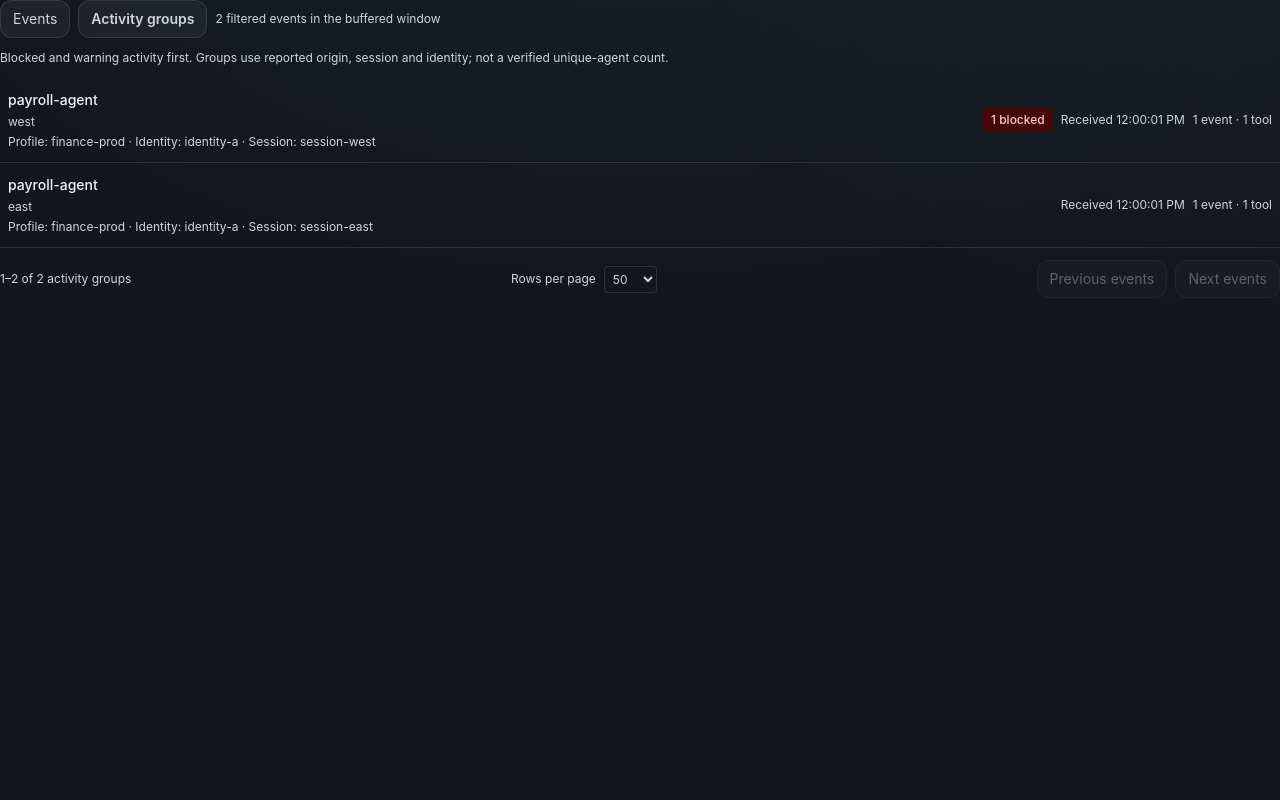
separates identical agent names by reported origin and drills into exactly that group
Click the 3rd button: (53,100) [0,78,1279,163]
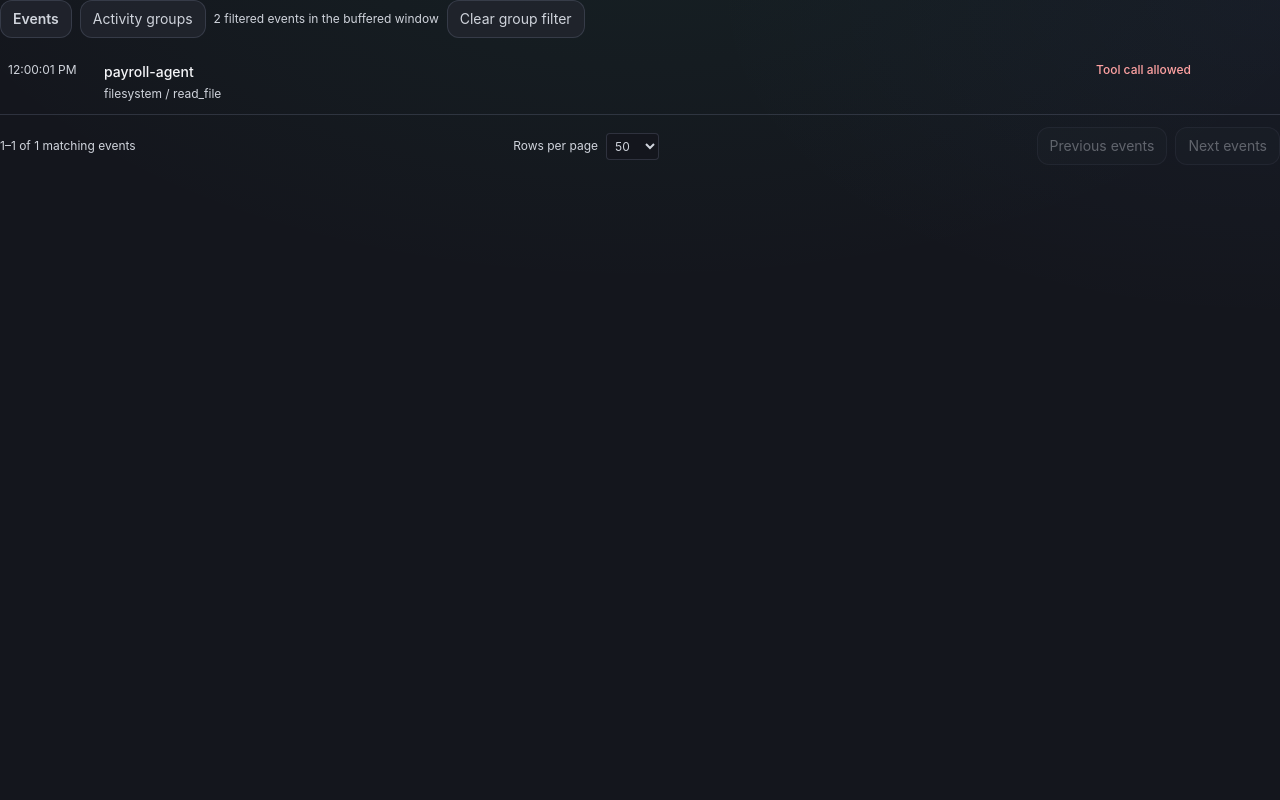
Expected: the number of elements with test id "gateway-activity-row" is 1
Click the button with aria-label "Inspect": (42,70) [0,50,1279,114]
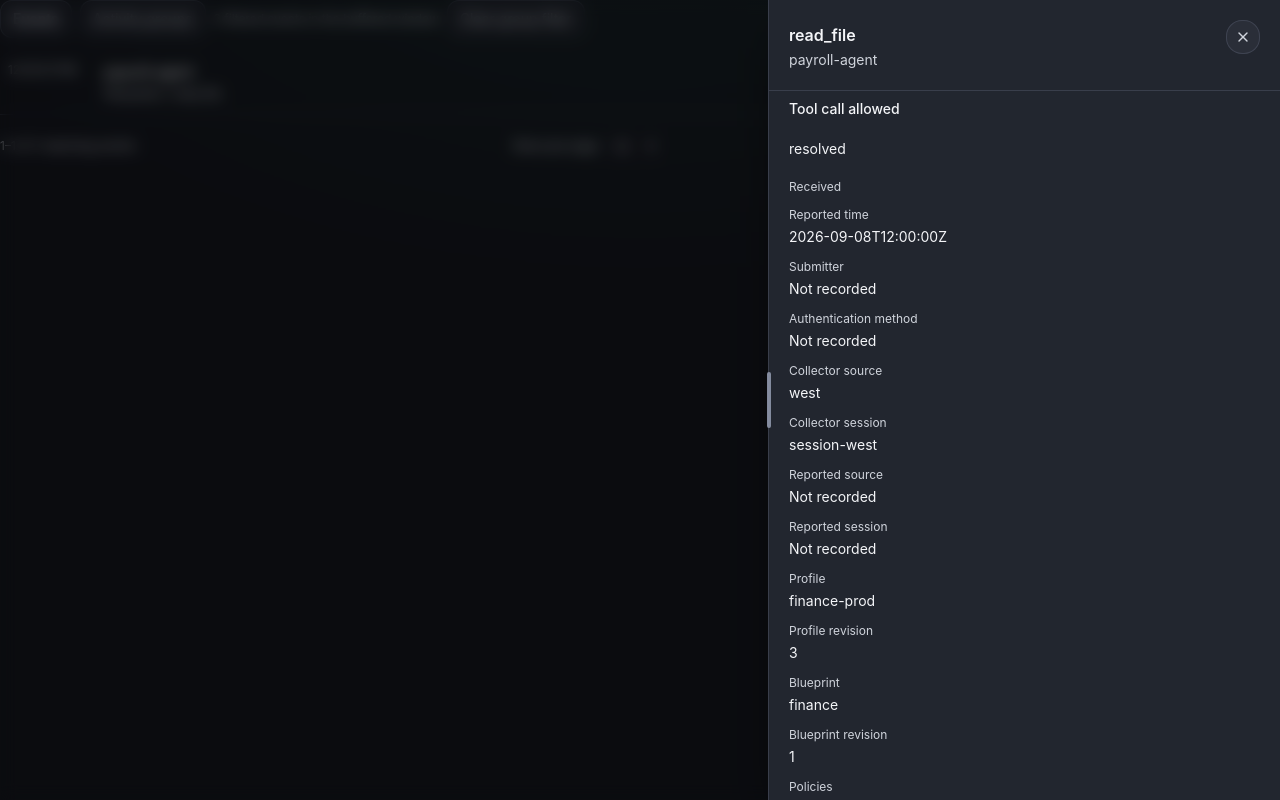
Expected: the text "west" is shown, [789,384,820,401]
Expected: the text "session-west" is shown, [789,436,877,453]
